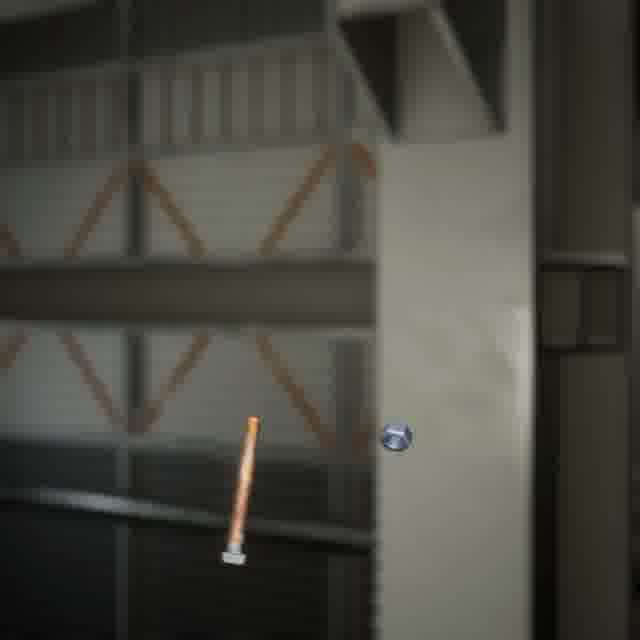bolt: (216, 411, 265, 568)
nut: (374, 416, 417, 456)
